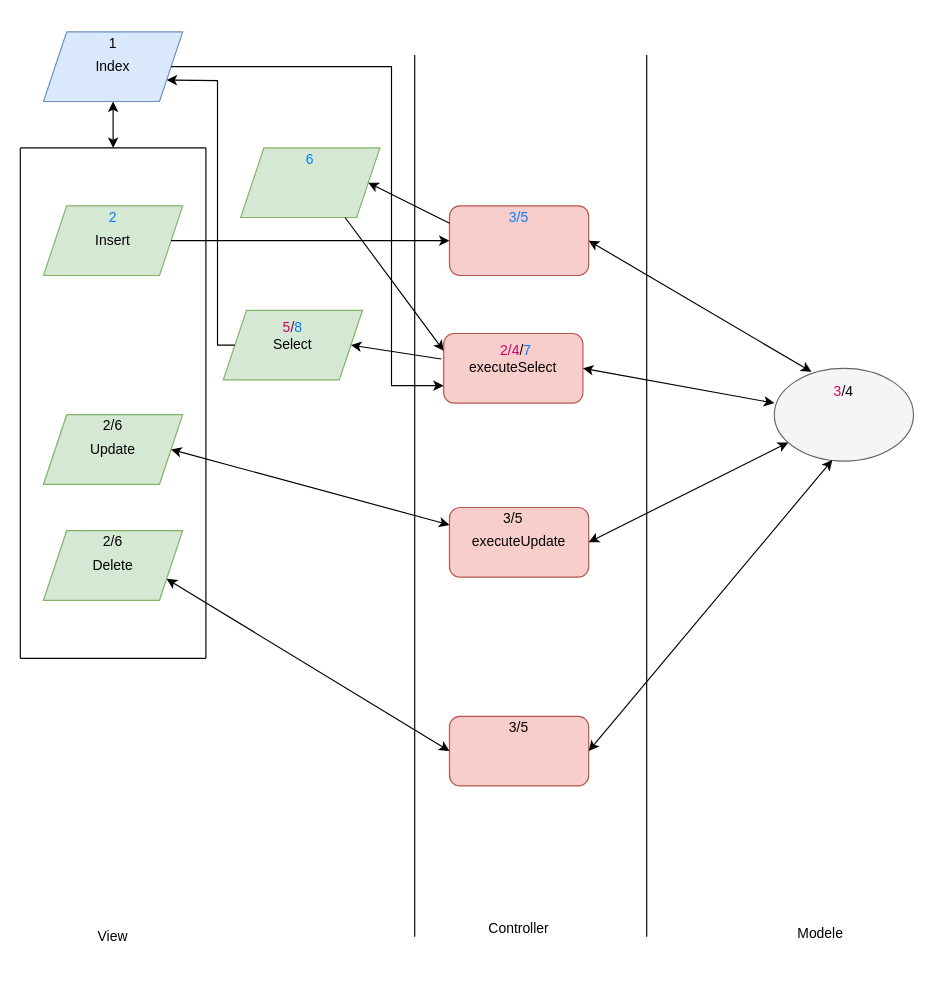
Image size: 934x991. Some labels were removed from this diagram. Each missing label, with the box of its shape:
executeDelete: (448, 715, 589, 786)
executeInsert: (448, 205, 589, 276)
Function: (773, 367, 913, 461)
insertDone: (240, 147, 380, 217)
